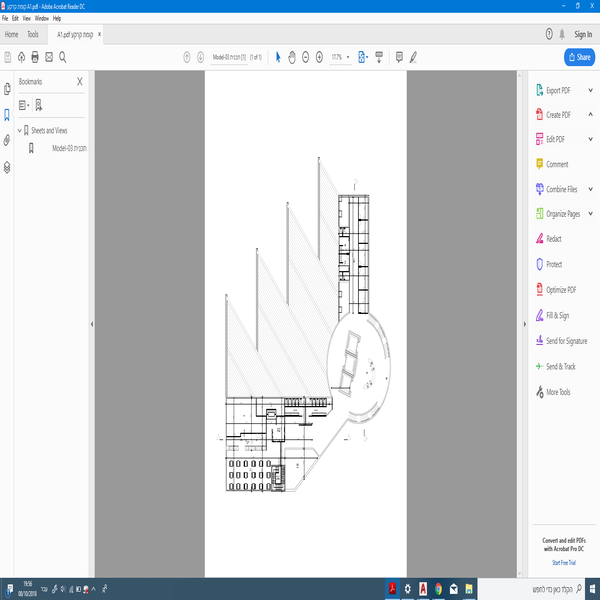room: (247, 414, 292, 449)
